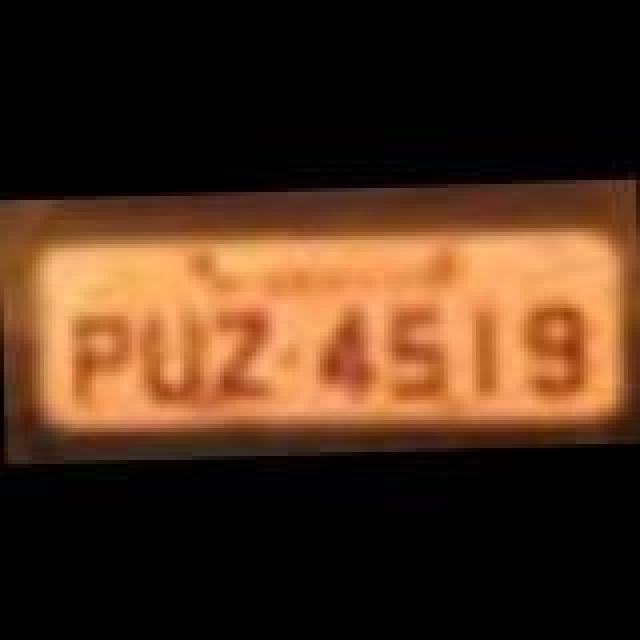1: (468, 296, 508, 392)
4: (310, 298, 378, 398)
5: (382, 300, 450, 404)
9: (518, 298, 586, 398)
P: (62, 308, 130, 412)
U: (136, 304, 208, 408)
Z: (208, 300, 280, 404)
